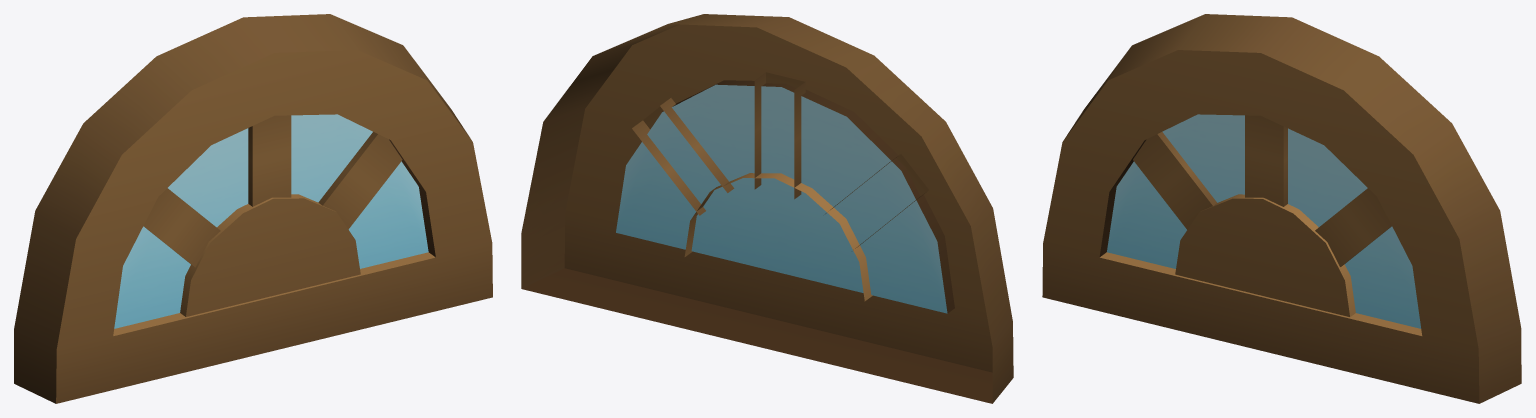
The model's file is Window_08A.fbx.
The picture shows the model from 3 angles, left to right: view 1: azimuth 30°, elevation 25°; view 2: azimuth 150°, elevation 25°; view 3: azimuth 330°, elevation 25°; orthographic projection. The views are drawn at different scales.
Visible parts, largest first — view 1: Window_08A; view 2: Window_08A; view 3: Window_08A.
Part boxes in pixels (box(x1,y1,x2,y2)): Window_08A: box(14, 14, 492, 403); Window_08A: box(521, 14, 1013, 403); Window_08A: box(1042, 14, 1521, 403).
Bounding box in the file's own units: 157 × 102 × 18.53.
2 materials, 2 textured.
